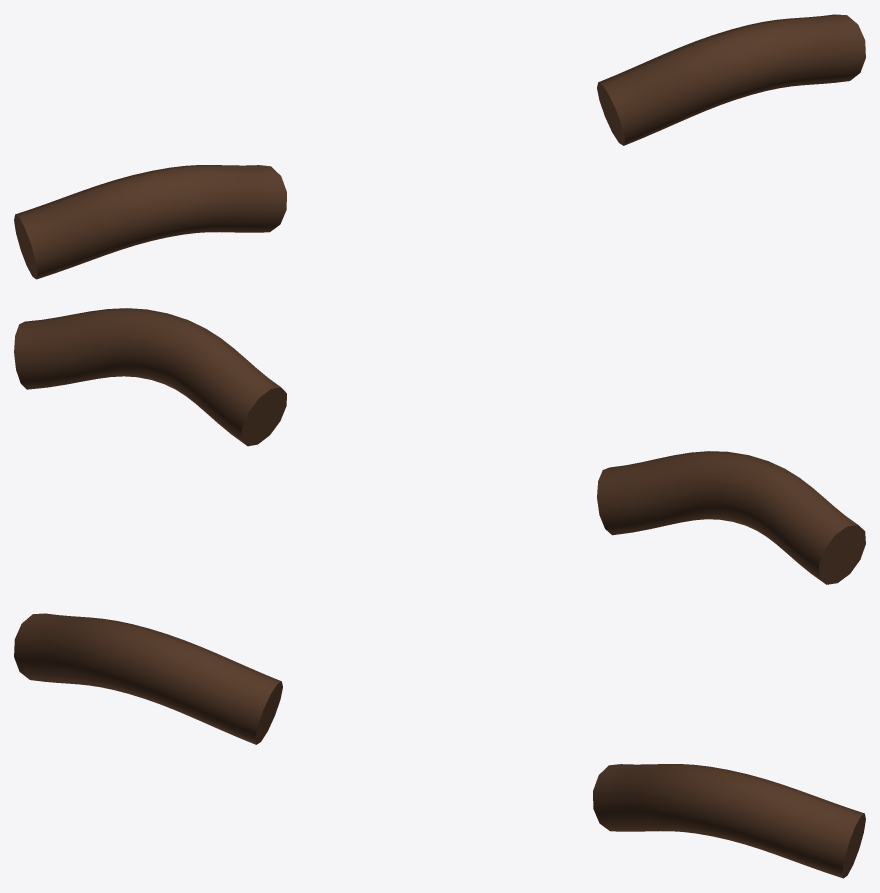
Rendered from brows_soft_pair.glb.
3 renders of one model, top to bottom at view 1: azimuth 30°, elevation 25°; view 2: azimuth 150°, elevation 25°; view 3: azimuth 330°, elevation 25°, orthographic.
Parts seen in each view (by area): view 1: BrowsPair.001; view 2: BrowsPair.001; view 3: BrowsPair.001.
Part boxes in pixels (x1,y1,x2,y2): BrowsPair.001: (14,14,865,279); BrowsPair.001: (14,308,865,584); BrowsPair.001: (14,613,865,878).
Bounding box in the file's own units: 0.1349 × 0.0144 × 0.014.
